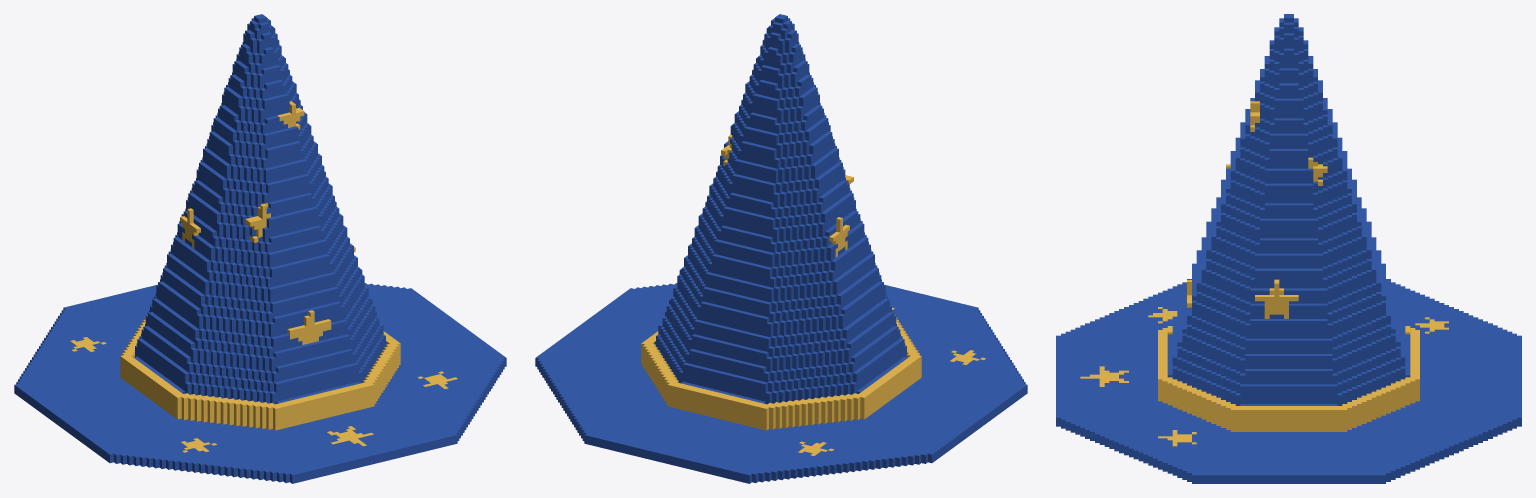
The model's file is wizard_hat_costume.glb.
The picture shows the model from 3 angles, left to right: view 1: azimuth 30°, elevation 25°; view 2: azimuth 150°, elevation 25°; view 3: azimuth 270°, elevation 25°; orthographic projection.
Visible parts, largest first — view 1: wizard_hat_costume:compound; view 2: wizard_hat_costume:compound; view 3: wizard_hat_costume:compound.
Part boxes in pixels (x1,y1,x2,y2): wizard_hat_costume:compound: [14, 14, 506, 483]; wizard_hat_costume:compound: [535, 14, 1027, 483]; wizard_hat_costume:compound: [1056, 14, 1521, 483].
Size of the model in its own units: 0.384 by 0.336 by 0.384.
